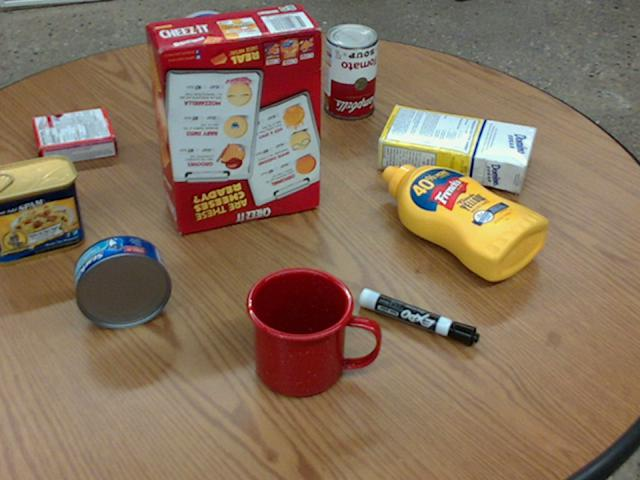cracker_box: (144, 7, 322, 233)
gelatin_box: (31, 107, 117, 166)
large_marker: (357, 288, 479, 345)
master_chef_can: (164, 11, 278, 132)
mug: (246, 266, 380, 397)
mustard_bottle: (381, 164, 547, 279)
potted_meat_can: (0, 155, 84, 266)
sugar_box: (376, 107, 535, 189)
tomato_soup_can: (321, 22, 375, 118)
tuna_fish_can: (73, 234, 170, 328)
